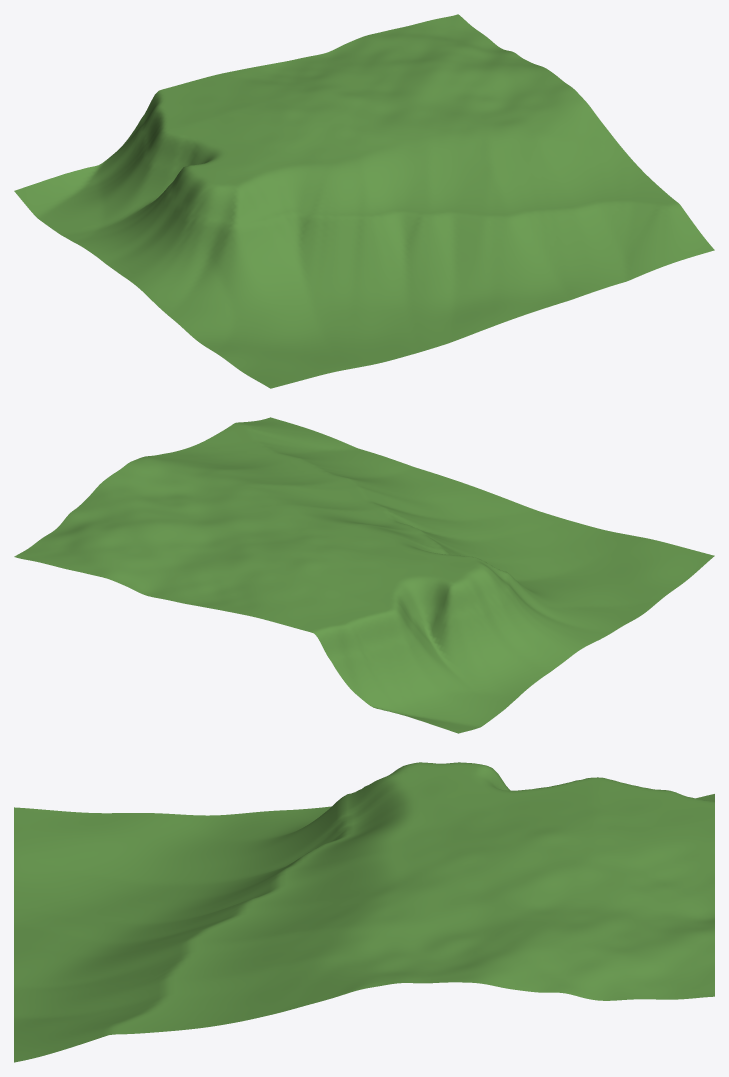
File: SM_Terrain_02_06.fbx
3 renders of one model, top to bottom at view 1: azimuth 30°, elevation 25°; view 2: azimuth 150°, elevation 25°; view 3: azimuth 270°, elevation 25°, orthographic. The views are drawn at different scales.
Visible parts, largest first — view 1: SM_Terrain_02_06; view 2: SM_Terrain_02_06; view 3: SM_Terrain_02_06.
Boxes of the visible parts, x1,y1,x2,y2 form: SM_Terrain_02_06: [14, 14, 714, 388]; SM_Terrain_02_06: [14, 417, 714, 733]; SM_Terrain_02_06: [14, 762, 714, 1062].
Size of the model in its own units: 384 by 78.6 by 384.
